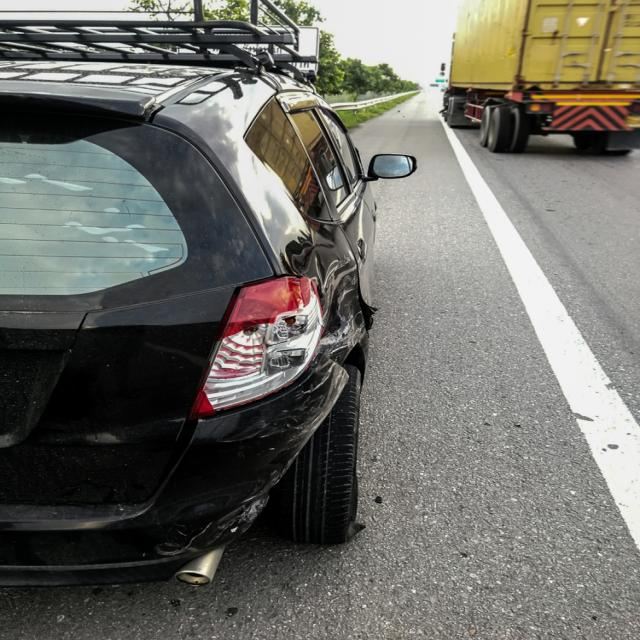dent: (293, 245, 361, 346)
lamp broken: (189, 274, 323, 421)
